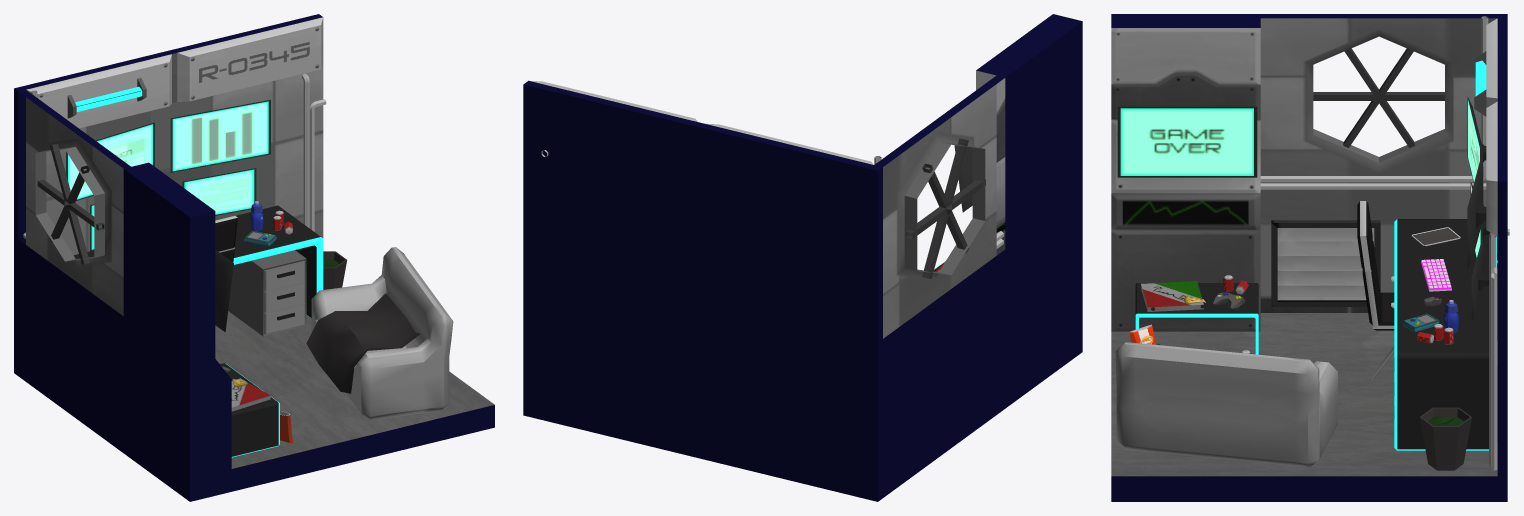
The model's file is room.gltf.
3 views of the same model, side by side, from view 1: azimuth 30°, elevation 25°; view 2: azimuth 150°, elevation 25°; view 3: azimuth 270°, elevation 25° (orthographic). The views are drawn at different scales.
Visible parts, largest first — view 1: Cube_3; view 2: Cube_3; view 3: Cube_3.
Boxes of the visible parts, x1,y1,x2,y2 form: Cube_3: (14, 14, 494, 501); Cube_3: (523, 14, 1082, 501); Cube_3: (1111, 14, 1509, 501).
Size of the model in its own units: 14.28 by 12.57 by 14.08.
2 materials, 2 textured.
